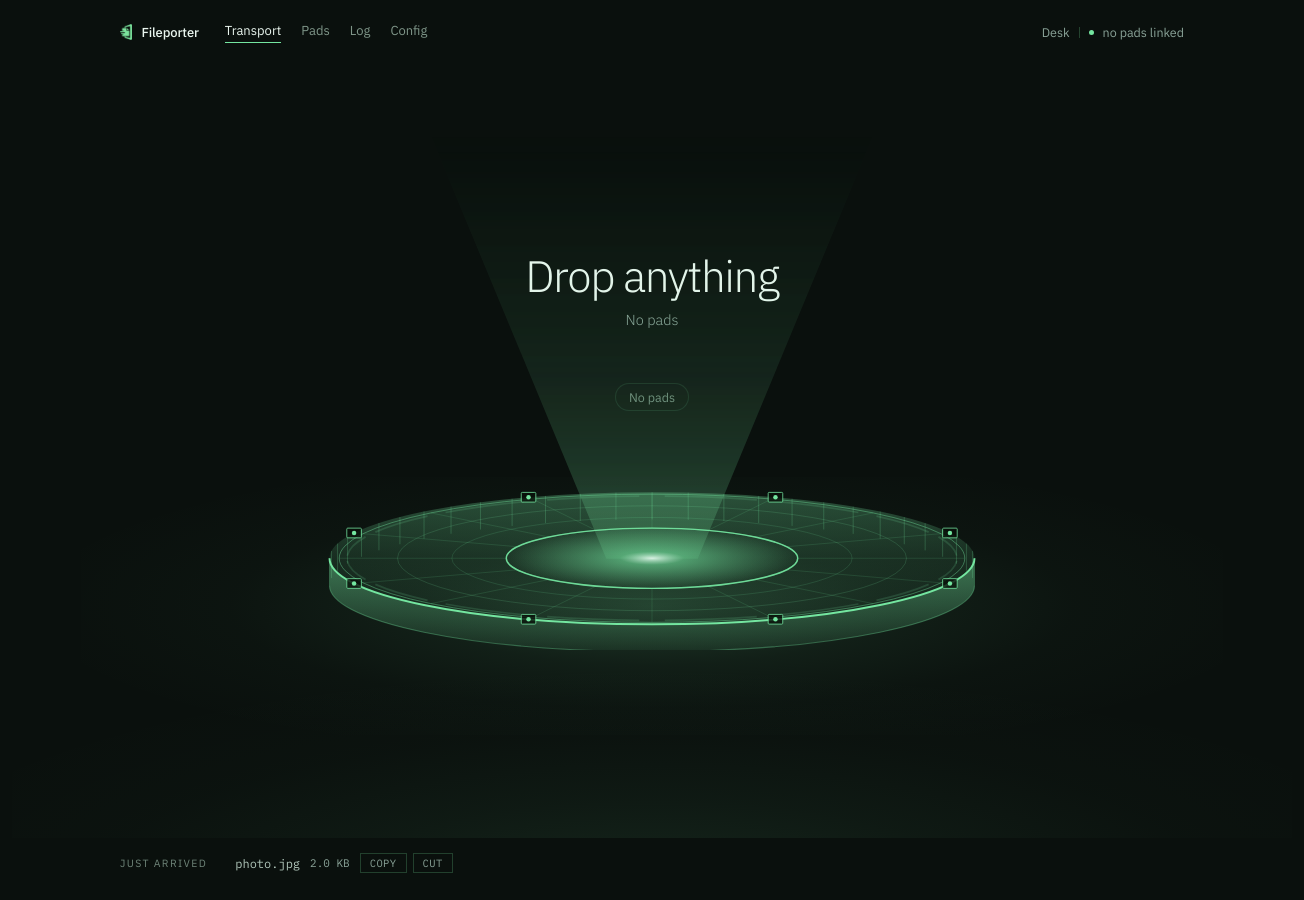
Test: copies an arrived file to the clipboard by its durable id
The image size is (1304, 900).
Click the button with aria-label "Copy photo.jpg". click: (383, 863)
box: [360,853,407,873]
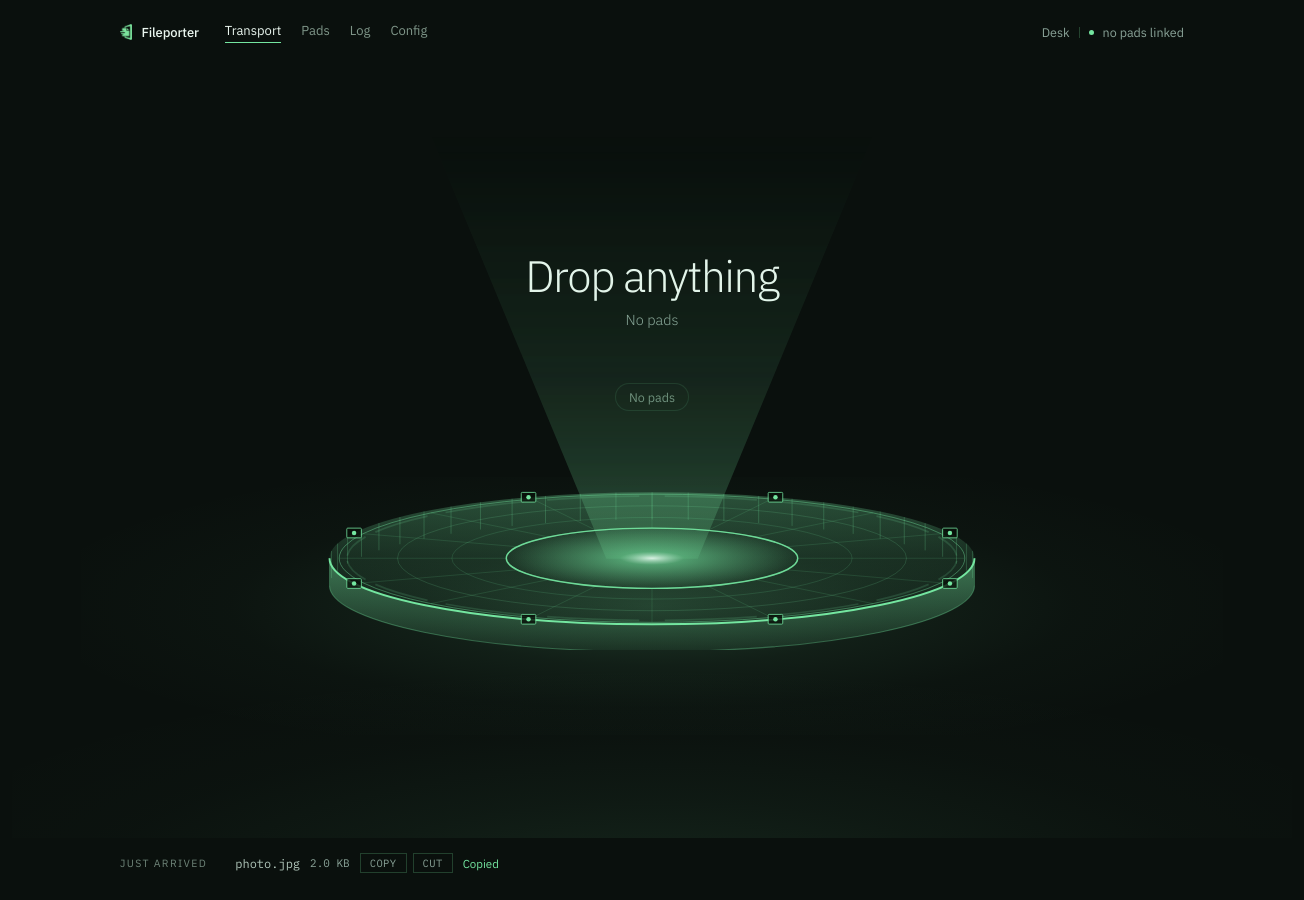
Expected: the message reads "Copied", [463,856,499,870]
